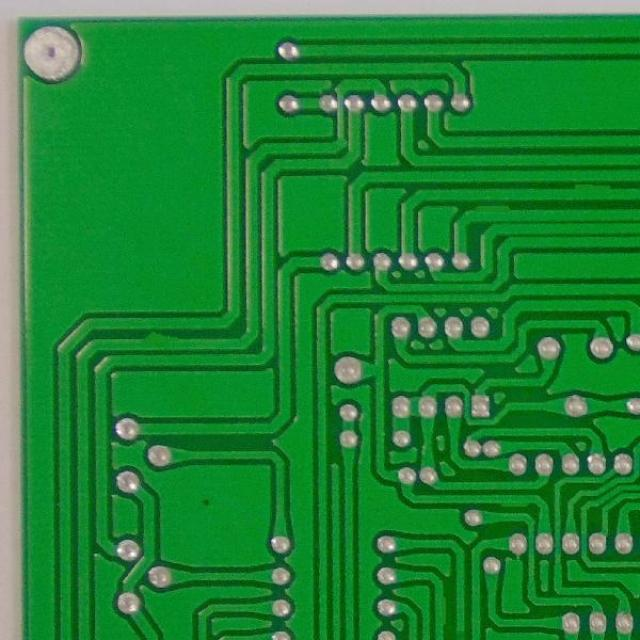Spur: (568, 180, 618, 204), (139, 328, 188, 352), (470, 201, 520, 224), (430, 590, 452, 636), (494, 490, 536, 512)
